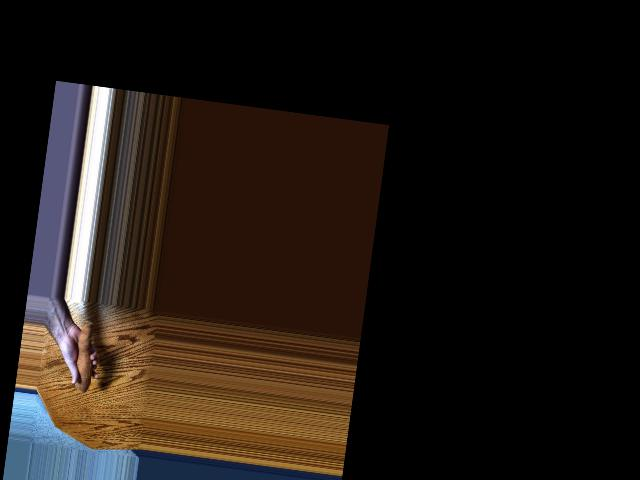sweet_potato: (62, 316, 101, 399)
